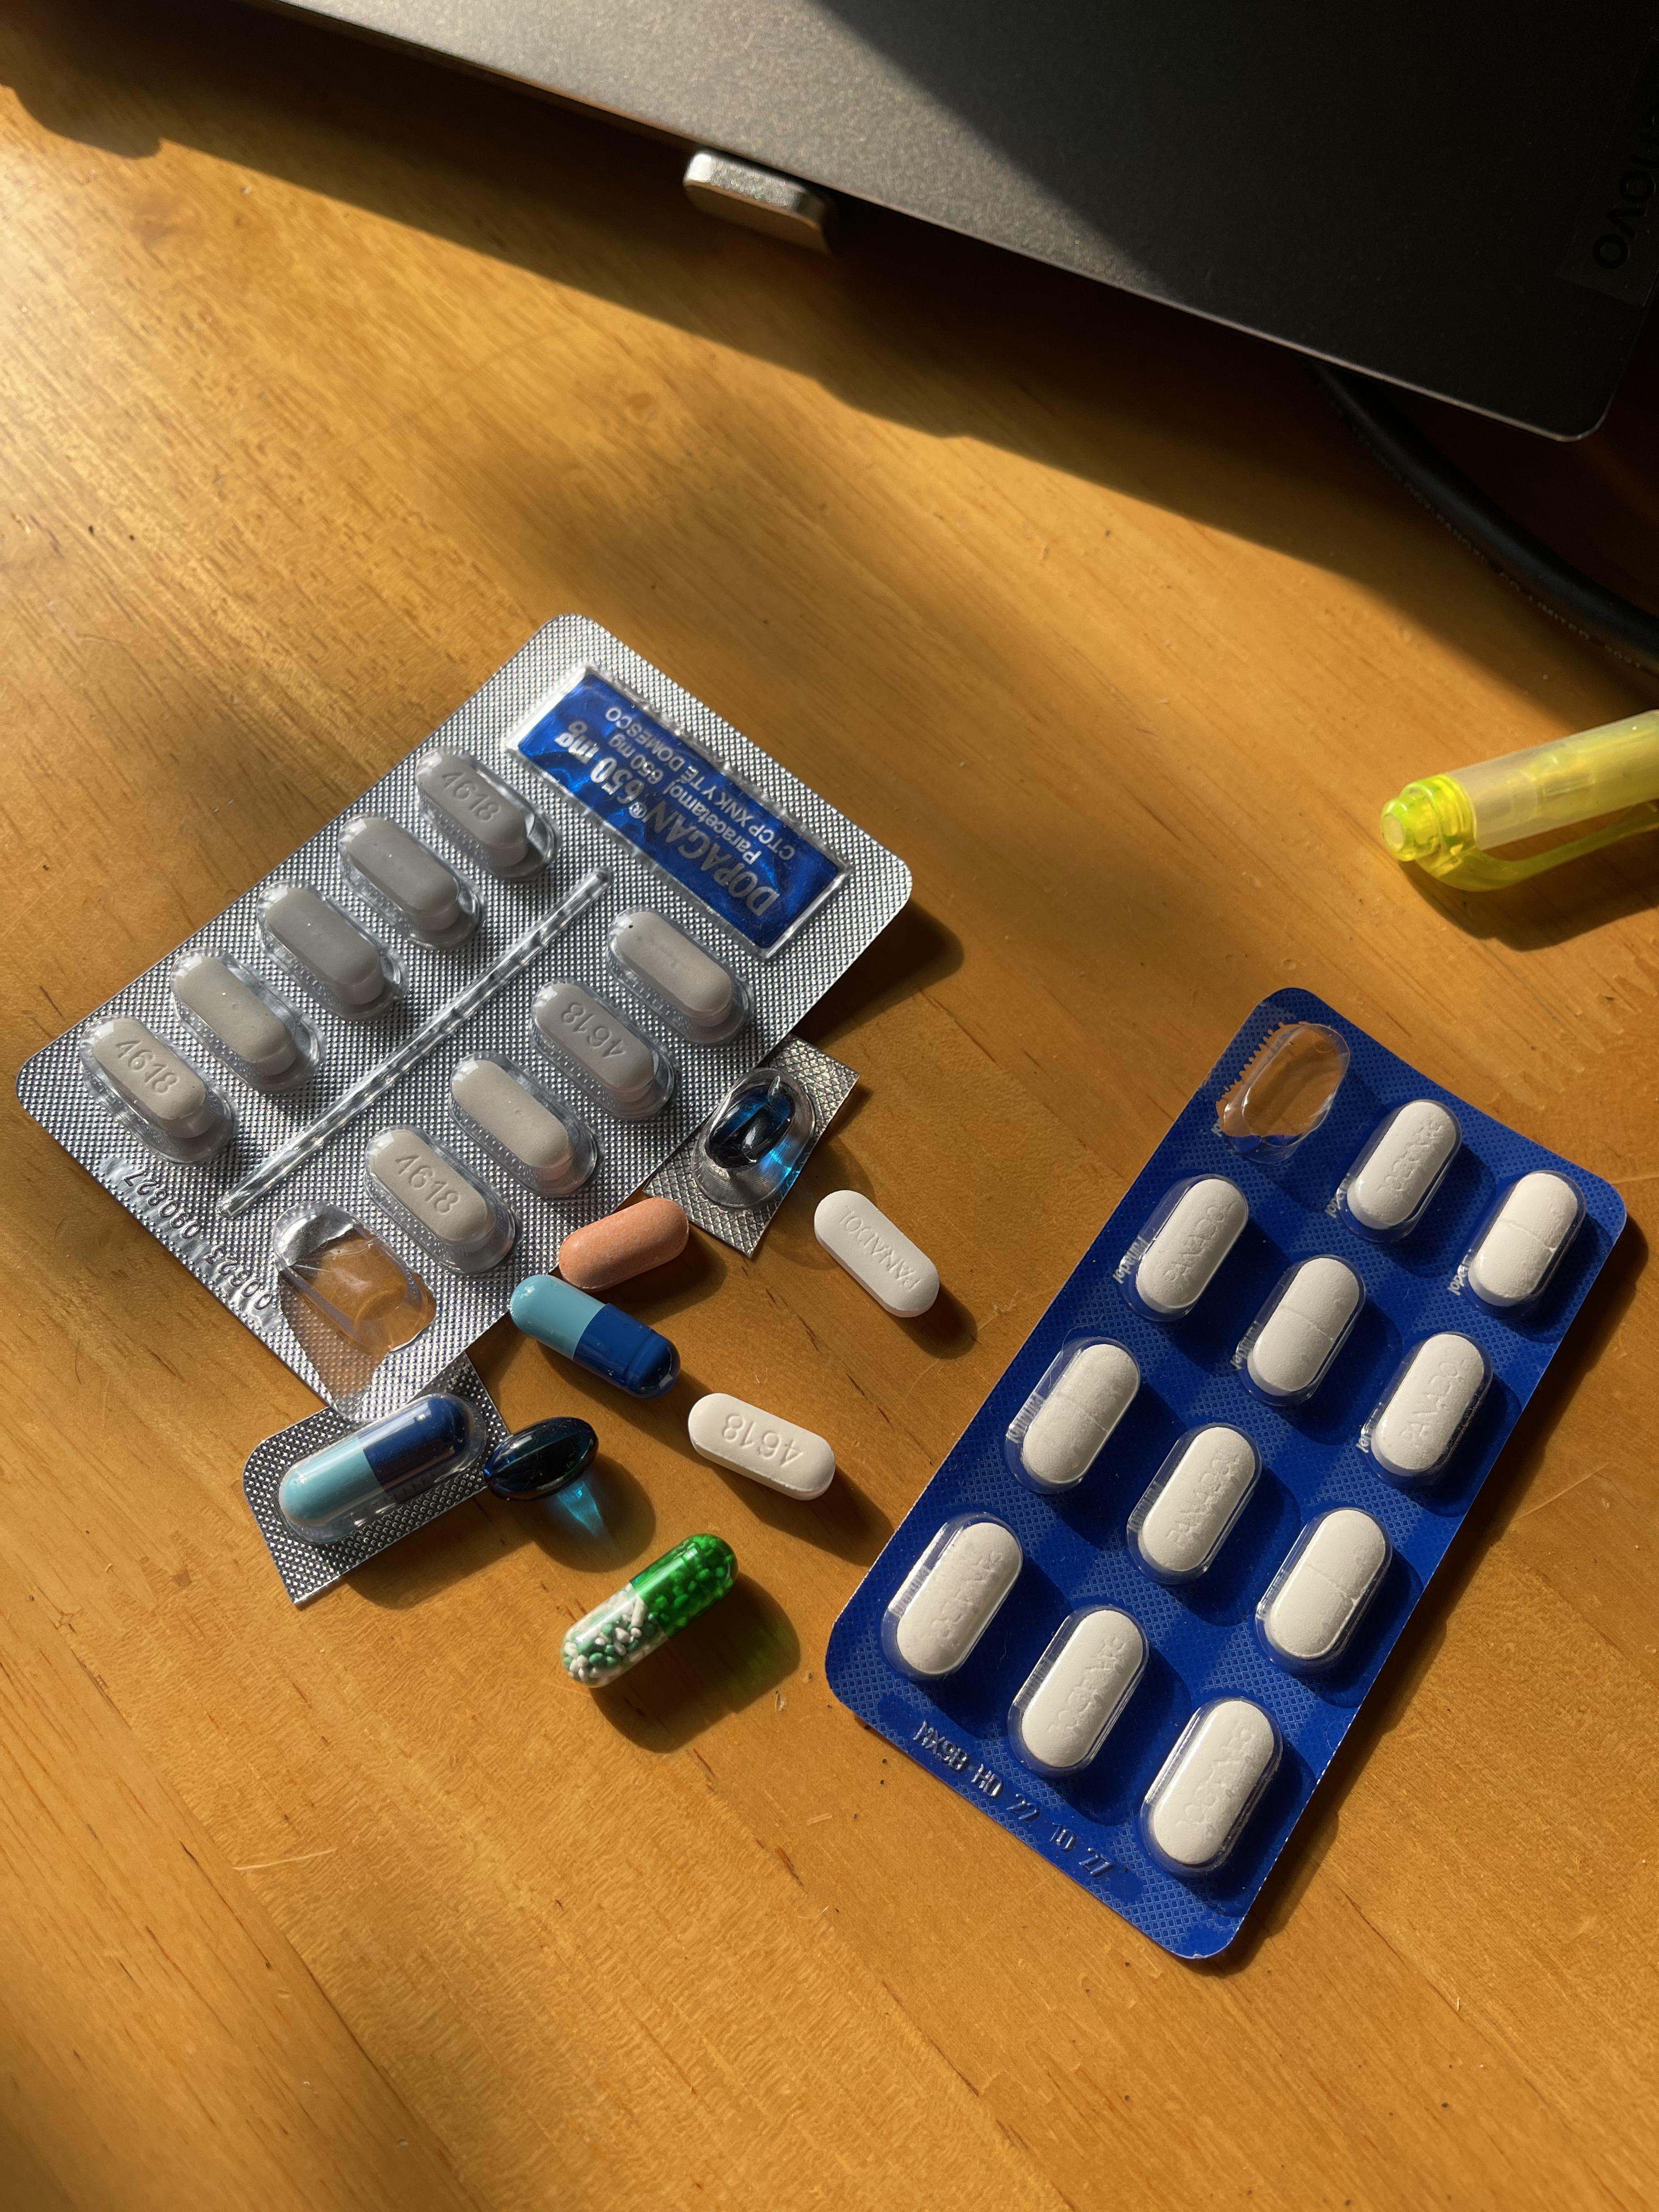Lincomyxin_500mg: (486, 1416, 596, 1493), (709, 1090, 793, 1167)
Loratadine_10mg: (556, 1197, 690, 1285)
Paracetamol_350mg: (1143, 1696, 1284, 1881), (1258, 1505, 1396, 1677), (1014, 1604, 1150, 1778), (890, 1519, 1025, 1681), (1131, 1423, 1262, 1588), (1366, 1329, 1492, 1489), (1012, 1339, 1140, 1496), (1239, 1254, 1364, 1407), (1340, 1096, 1464, 1240), (1462, 1167, 1582, 1315), (1131, 1176, 1249, 1322), (810, 1191, 938, 1318)
Paracetamol_500mg: (364, 1127, 514, 1271), (533, 977, 676, 1120), (173, 949, 312, 1094), (338, 815, 477, 953), (261, 881, 397, 1019), (450, 1055, 587, 1191), (610, 909, 744, 1040), (91, 1022, 223, 1153), (416, 752, 545, 881), (687, 1392, 836, 1498)
Paracetamol_650mg: (568, 1534, 735, 1681)
pill: (279, 1399, 465, 1529), (509, 1273, 674, 1393)
